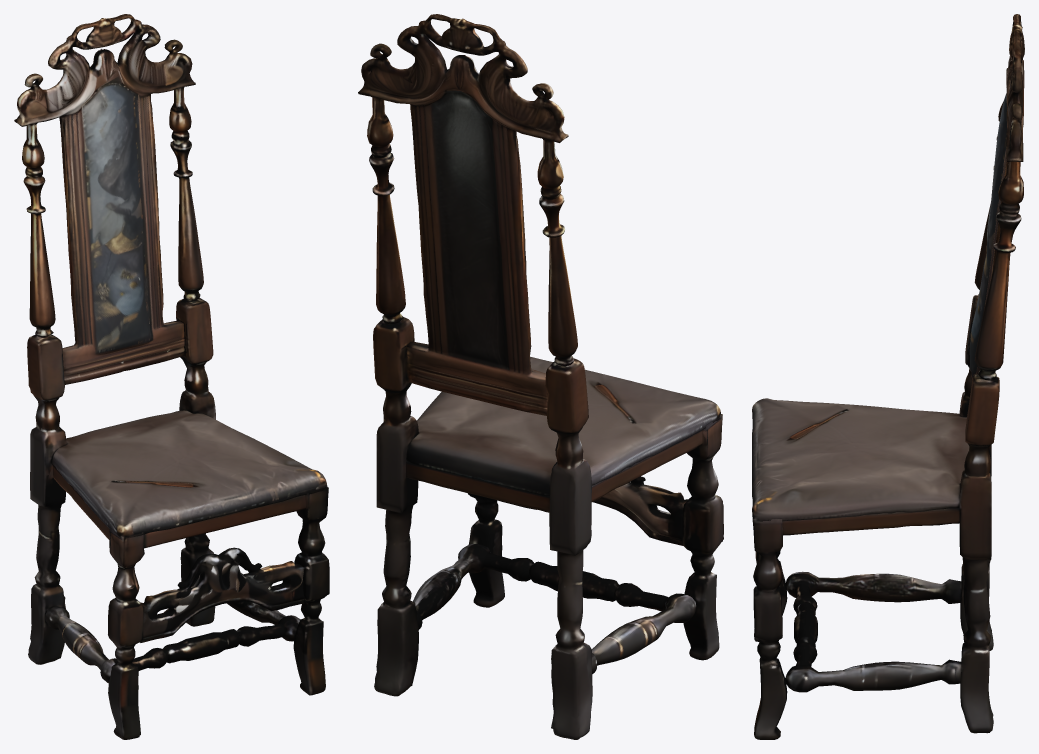
3 views of the same model, side by side, from view 1: azimuth 30°, elevation 25°; view 2: azimuth 150°, elevation 25°; view 3: azimuth 270°, elevation 25° (orthographic). The views are drawn at different scales.
Parts seen in each view (by area): view 1: root.0, root.1, root.3, root.5, root.7, root.8, root.2, root.6, root.4, root.9, root.11, root.10; view 2: root.0, root.1, root.3, root.2, root.7, root.6, root.9, root.4, root.5, root.10, root.11, root.8; view 3: root.1, root.2, root.0, root.8, root.9, root.6, root.10, root.4, root.3.
Part boxes in pixels (bbox=[...]): root.0: bbox=[14, 14, 195, 384]; root.1: bbox=[51, 410, 327, 537]; root.3: bbox=[27, 334, 66, 664]; root.5: bbox=[140, 547, 304, 642]; root.7: bbox=[108, 528, 144, 739]; root.8: bbox=[293, 487, 329, 695]; root.2: bbox=[176, 298, 215, 626]; root.6: bbox=[45, 606, 240, 683]; root.4: bbox=[53, 465, 306, 548]; root.9: bbox=[163, 576, 300, 663]; root.11: bbox=[29, 213, 55, 337]; root.10: bbox=[178, 177, 203, 300]; root.0: bbox=[358, 14, 568, 415]; root.1: bbox=[406, 356, 720, 496]; root.3: bbox=[545, 358, 592, 739]; root.2: bbox=[373, 317, 418, 696]; root.7: bbox=[682, 414, 723, 660]; root.6: bbox=[529, 563, 696, 674]; root.9: bbox=[413, 543, 618, 629]; root.4: bbox=[406, 430, 702, 512]; root.5: bbox=[500, 476, 687, 545]; root.10: bbox=[376, 195, 405, 324]; root.11: bbox=[548, 236, 577, 366]; root.8: bbox=[468, 493, 504, 607]; root.1: bbox=[752, 398, 969, 521]; root.2: bbox=[959, 374, 999, 733]; root.0: bbox=[969, 14, 1024, 378]; root.8: bbox=[752, 517, 787, 739]; root.9: bbox=[785, 604, 961, 692]; root.6: bbox=[785, 571, 961, 647]; root.10: bbox=[974, 251, 1010, 380]; root.4: bbox=[782, 507, 959, 535]; root.3: bbox=[959, 295, 993, 650].
Bounding box in the file's own units: 0.4491 × 1.25 × 0.4663.
Materials: 12 (12 with a texture image).
